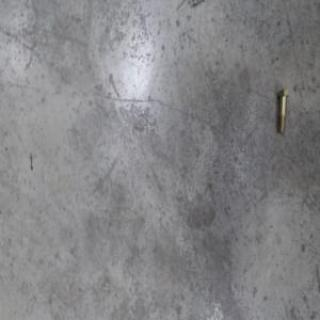Bolttrack_idkeyframe: (275, 87, 289, 133)
